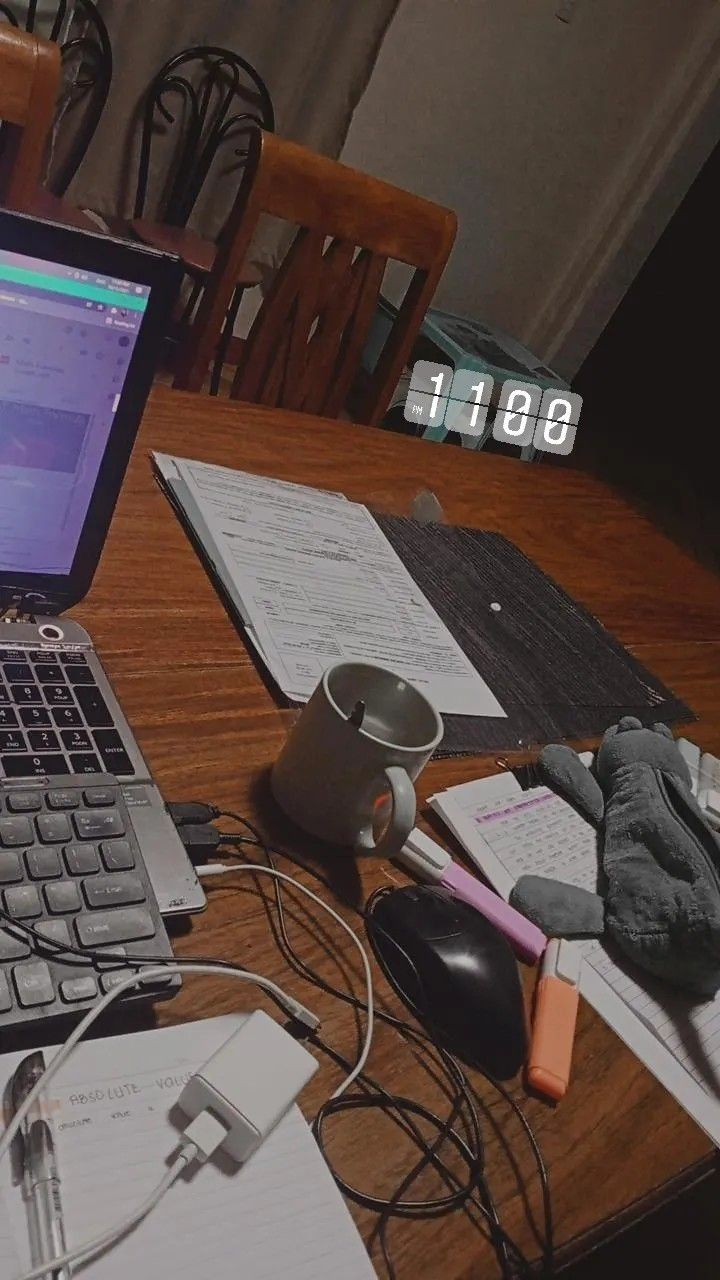not a gesture sign: (113, 304, 582, 1020)
